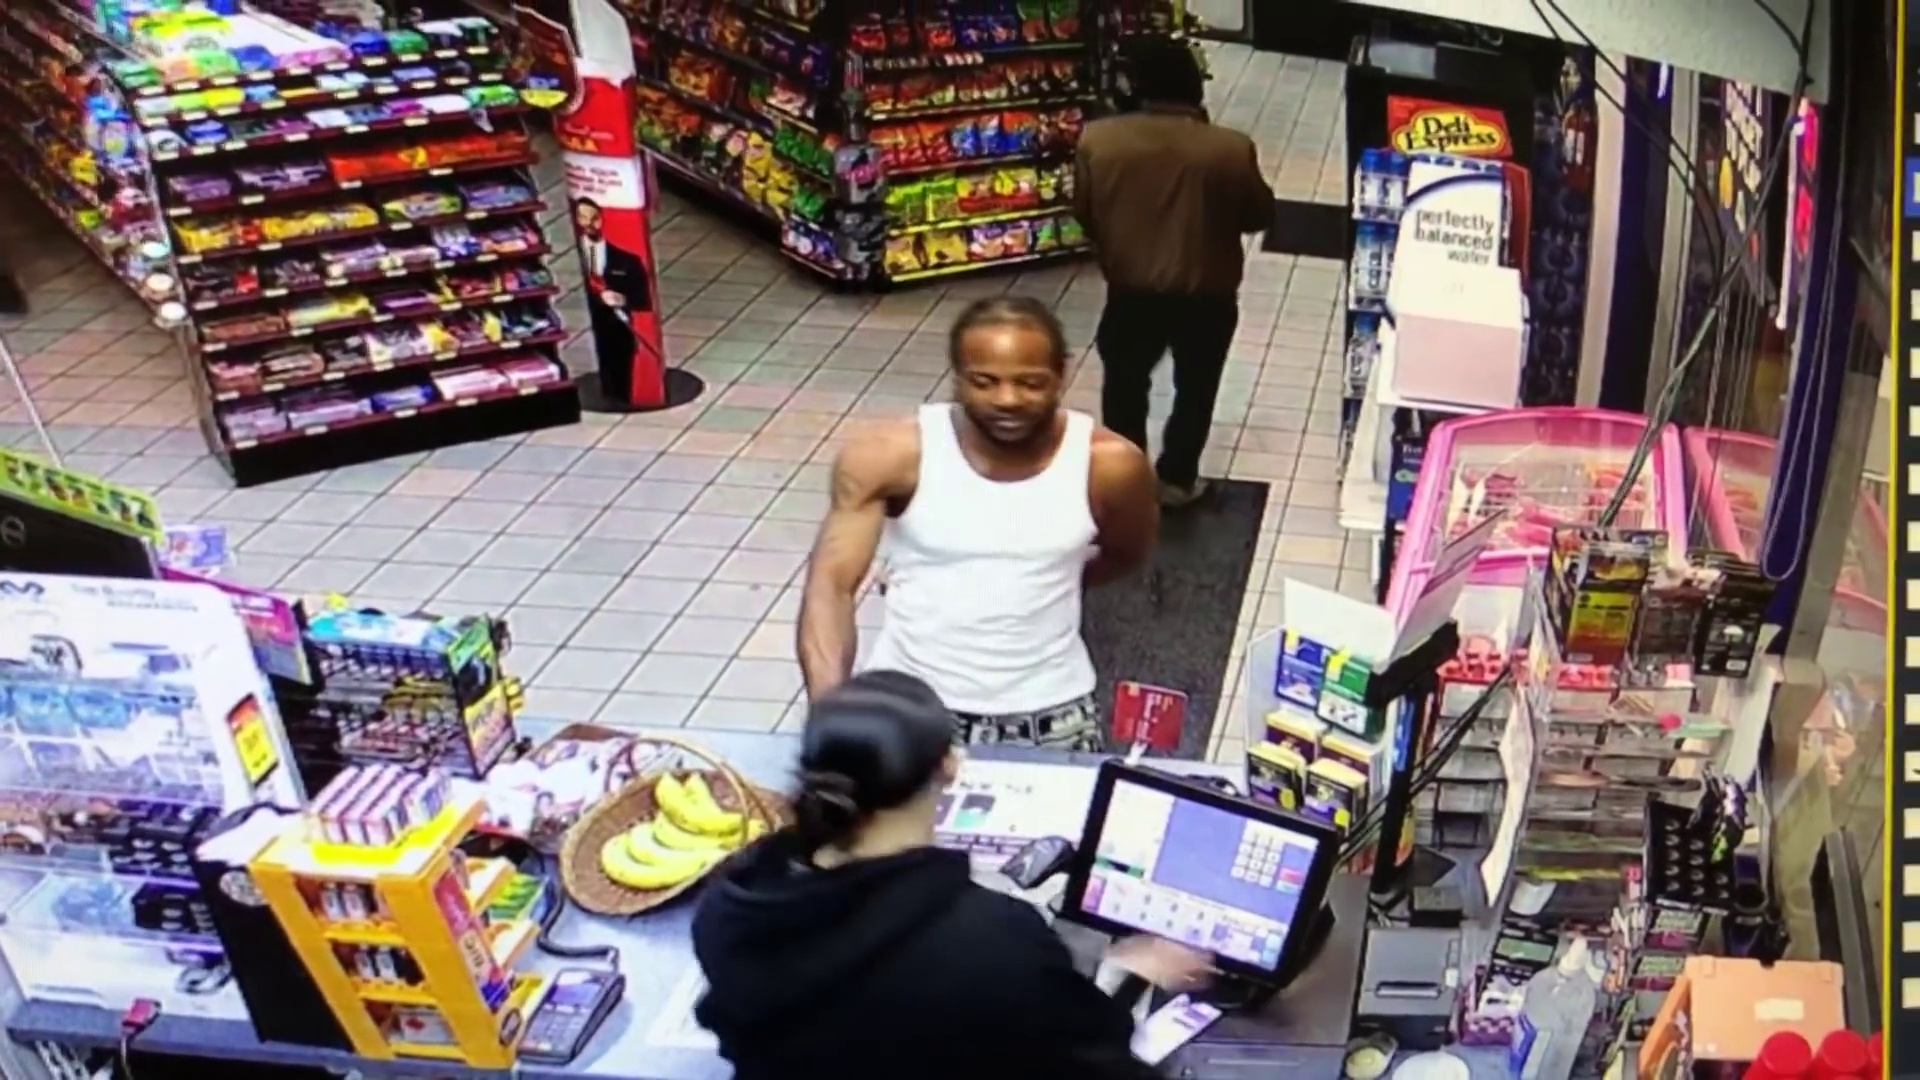face: (965, 339, 1056, 452)
